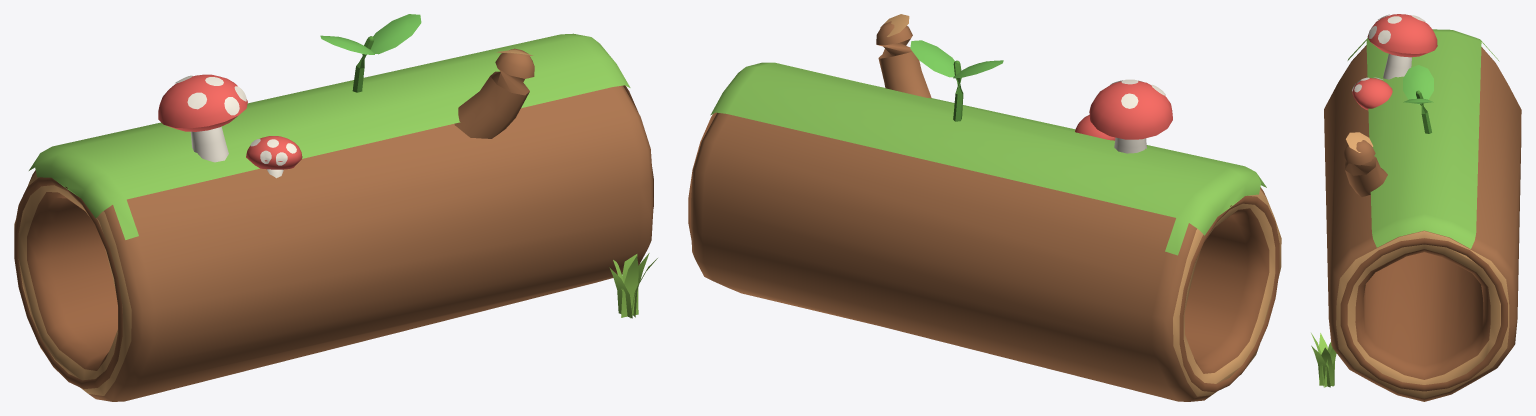
File: prop_log.glb
3 renders of one model, left to right at view 1: azimuth 30°, elevation 25°; view 2: azimuth 150°, elevation 25°; view 3: azimuth 270°, elevation 25°, orthographic. The views are drawn at different scales.
Visible parts, largest first — view 1: prop_log; view 2: prop_log; view 3: prop_log.
Part boxes in pixels (bbox=[...]): prop_log: bbox=[14, 14, 657, 401]; prop_log: bbox=[688, 14, 1281, 401]; prop_log: bbox=[1311, 14, 1521, 401].
Size of the model in its own units: 1.62 by 0.8853 by 0.7157.
